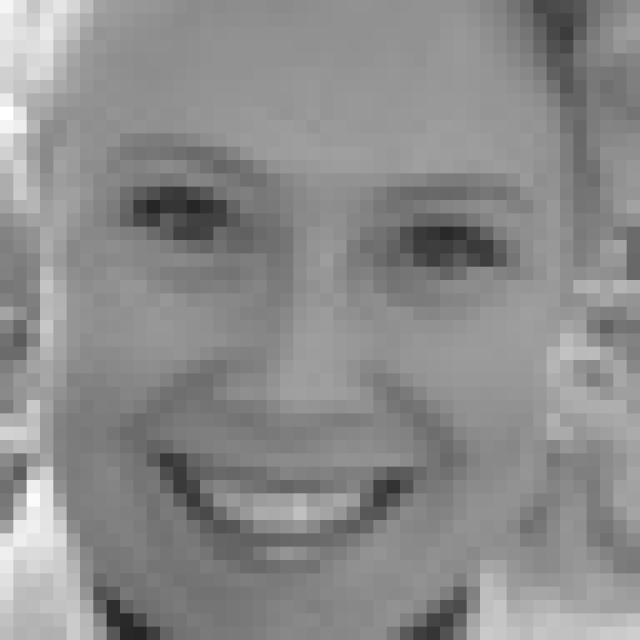happy: (84, 132, 543, 580)
